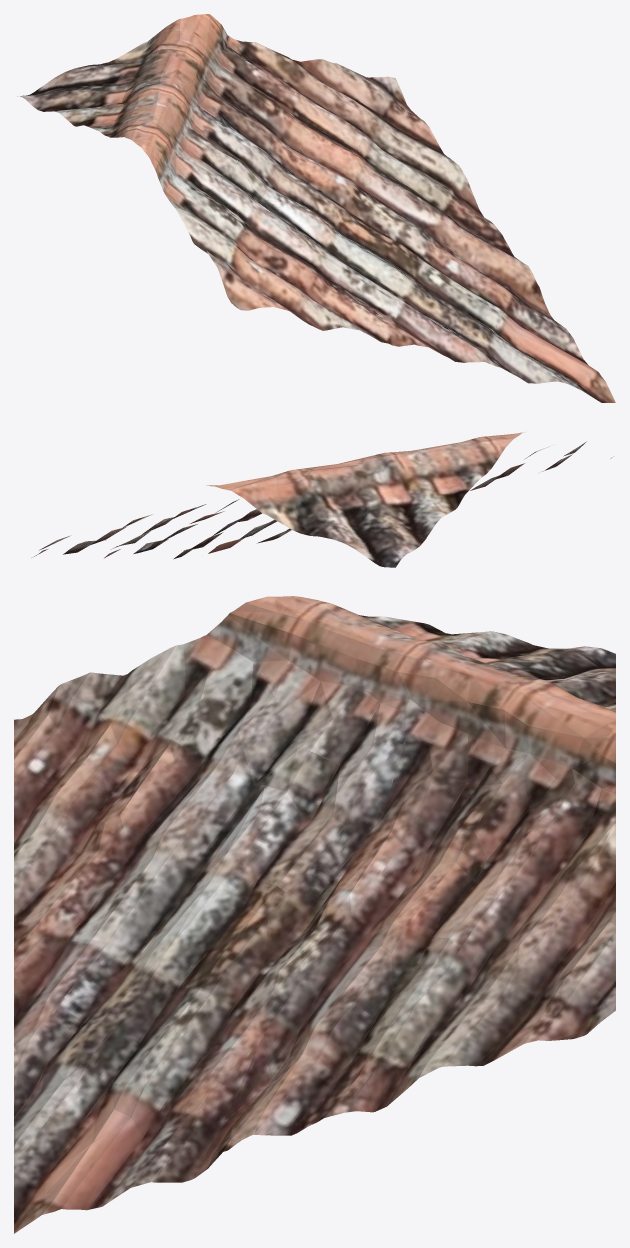
The picture shows the model from 3 angles, top to bottom: view 1: azimuth 30°, elevation 25°; view 2: azimuth 150°, elevation 25°; view 3: azimuth 270°, elevation 25°; orthographic projection. The views are drawn at different scales.
Bounding box in the file's own units: 1.67 × 1.18 × 1.67.
3 materials, 3 textured.
